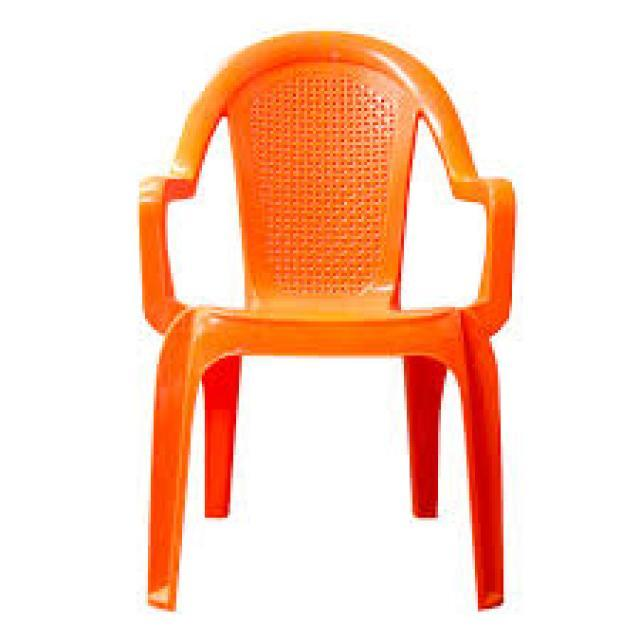chair: (119, 0, 538, 620)
